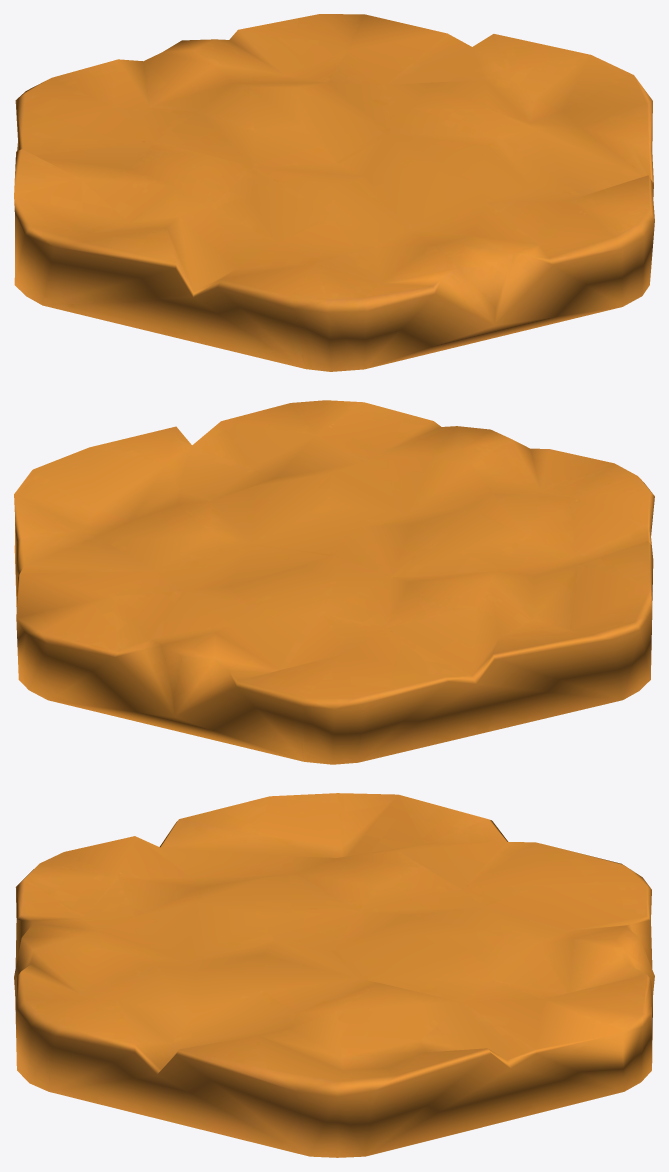
Rendered from tile-fields.glb.
The picture shows the model from 3 angles, top to bottom: view 1: azimuth 30°, elevation 25°; view 2: azimuth 150°, elevation 25°; view 3: azimuth 270°, elevation 25°; orthographic projection.
Size of the model in its own units: 0.9497 by 0.1113 by 0.8589.
Materials: 1 (1 with a texture image).
